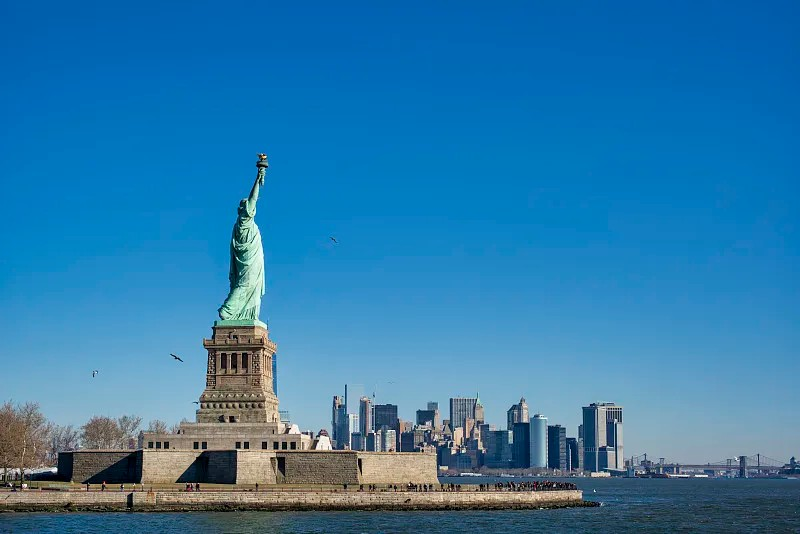SL: (194, 154, 282, 424)
